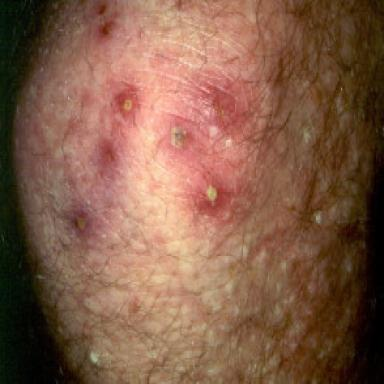acne: (201, 83, 236, 129), (195, 172, 227, 219), (115, 87, 139, 117), (100, 138, 115, 167), (170, 126, 186, 148), (75, 208, 88, 232), (101, 22, 113, 35), (98, 4, 107, 15)
